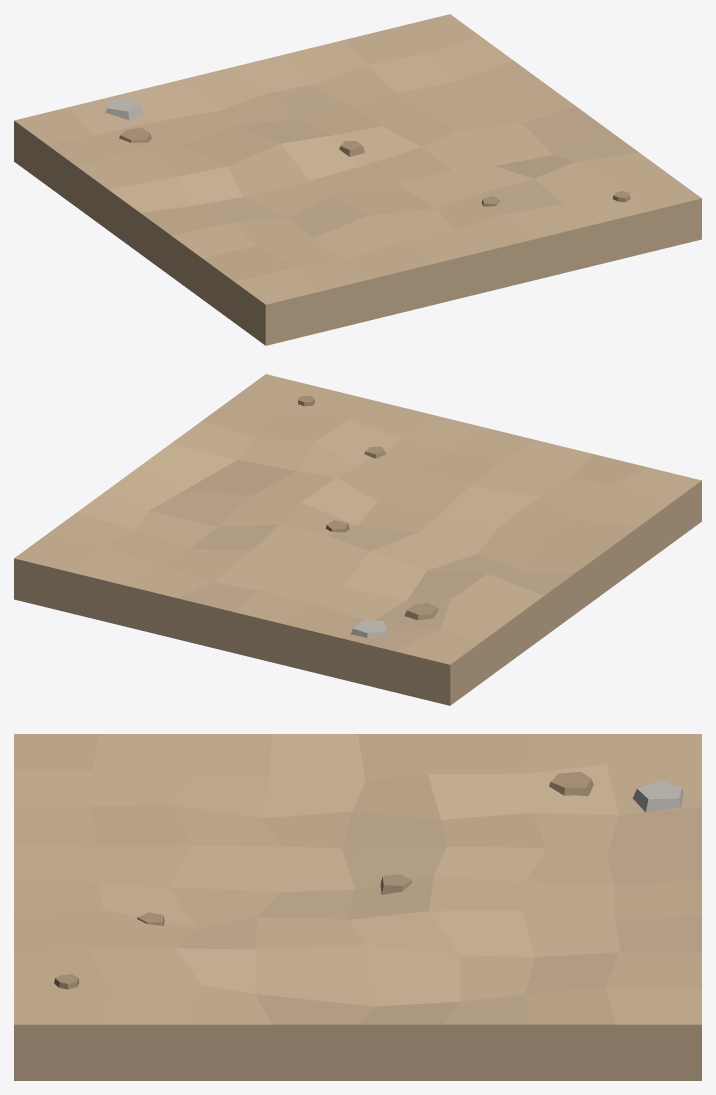
Rendered from SM_Ground_Dirt.glb.
The picture shows the model from 3 angles, top to bottom: view 1: azimuth 30°, elevation 25°; view 2: azimuth 150°, elevation 25°; view 3: azimuth 270°, elevation 25°; orthographic projection. The views are drawn at different scales.
Parts seen in each view (by area): view 1: SM_Ground_Dirt; view 2: SM_Ground_Dirt; view 3: SM_Ground_Dirt.
Part boxes in pixels (x1=…): SM_Ground_Dirt: x1=14, y1=14, x2=701, y2=345; SM_Ground_Dirt: x1=14, y1=374, x2=701, y2=705; SM_Ground_Dirt: x1=14, y1=734, x2=701, y2=1080.
Size of the model in its own units: 2 by 0.1988 by 2.
